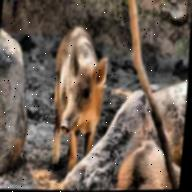boar: (32, 26, 117, 161)
